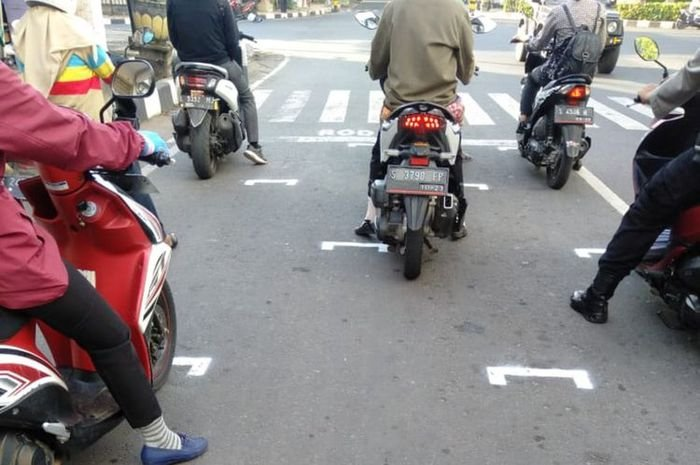motor: (372, 98, 461, 285), (511, 69, 602, 196), (165, 59, 248, 184)
